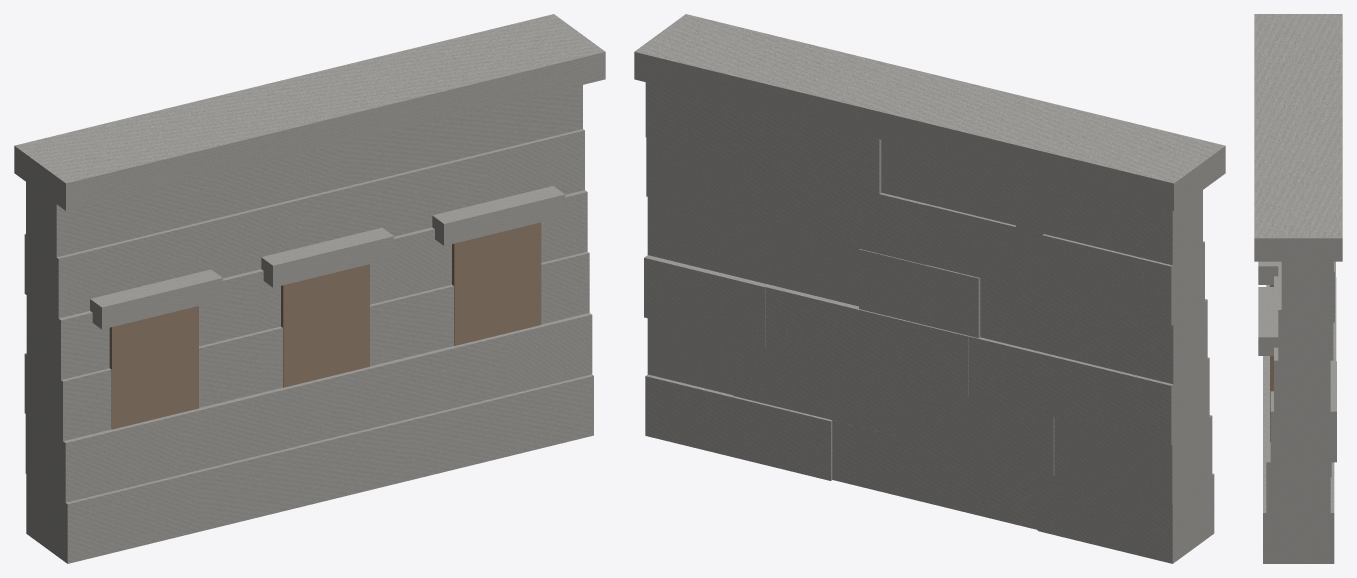
File: andean-terraces-and-stone-village-trapezoidal-niche-wa-095f0186__38256.glb
3 renders of one model, left to right at view 1: azimuth 30°, elevation 25°; view 2: azimuth 150°, elevation 25°; view 3: azimuth 270°, elevation 25°, orthographic. The views are drawn at different scales.
Parts seen in each view (by area): view 1: trapezoidal-niche-wall-stone, trapezoidal-niche-wall-earth; view 2: trapezoidal-niche-wall-stone; view 3: trapezoidal-niche-wall-stone, trapezoidal-niche-wall-earth.
Boxes of the visible parts, bbox=[...] form: trapezoidal-niche-wall-stone: bbox=[14, 14, 605, 563]; trapezoidal-niche-wall-earth: bbox=[109, 222, 541, 429]; trapezoidal-niche-wall-stone: bbox=[634, 14, 1225, 563]; trapezoidal-niche-wall-stone: bbox=[1254, 14, 1342, 563]; trapezoidal-niche-wall-earth: bbox=[1270, 285, 1273, 441].
Bounding box in the file's own units: 4.1 × 2.8 × 0.6802.
2 materials, 1 textured.
